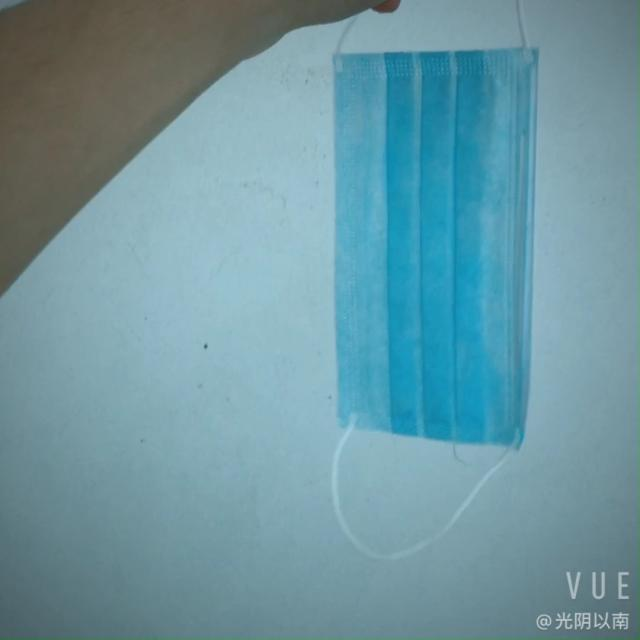face mask: (326, 37, 546, 463)
